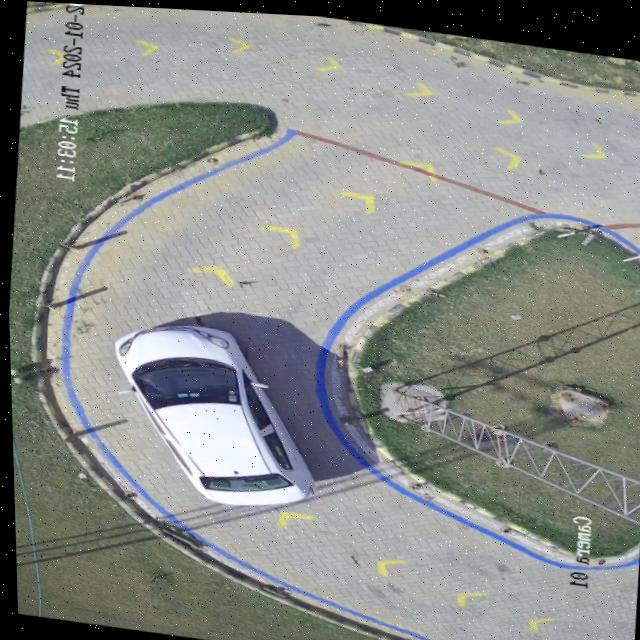car: (110, 320, 309, 504)
